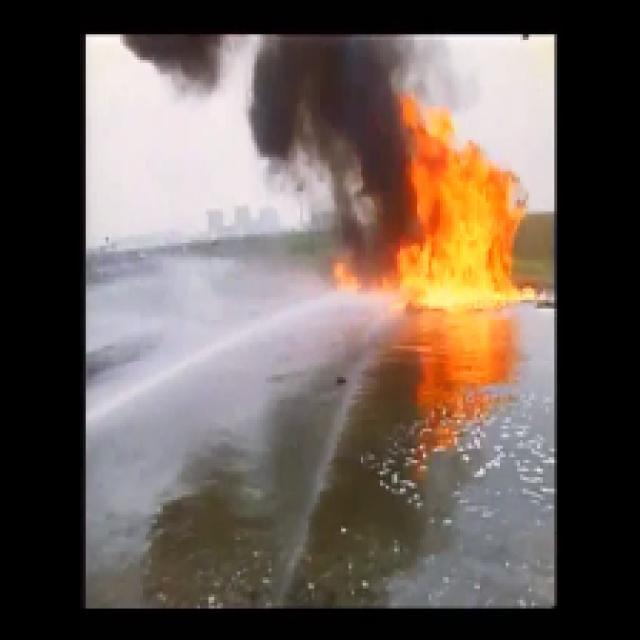Fire: (402, 109, 536, 304)
Smoke: (252, 42, 400, 178), (130, 36, 226, 98)
